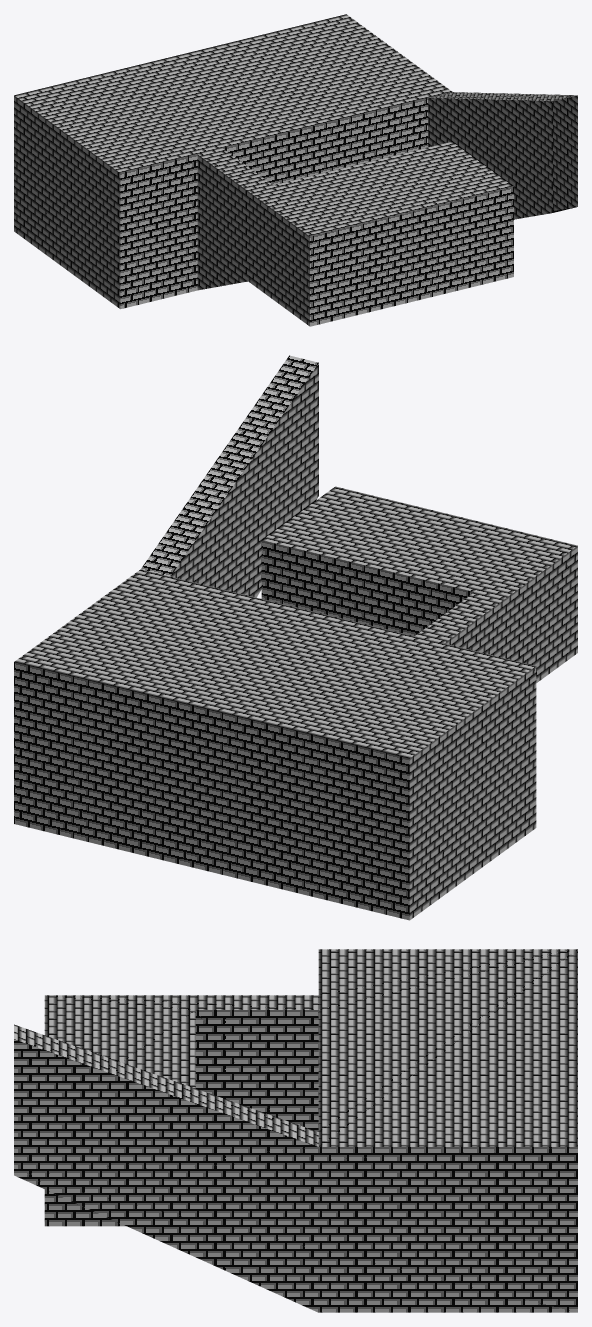
The model's file is DungeonItemRoom.dae.
3 renders of one model, top to bottom at view 1: azimuth 30°, elevation 25°; view 2: azimuth 150°, elevation 25°; view 3: azimuth 270°, elevation 25°, orthographic. The views are drawn at different scales.
Visible parts, largest first — view 1: group_0; view 2: group_0; view 3: group_0.
Boxes of the visible parts, x1,y1,x2,y2 form: group_0: (14,14,577,326); group_0: (14,355,577,920); group_0: (14,949,577,1312).
Size of the model in its own units: 523 by 630 by 337.
